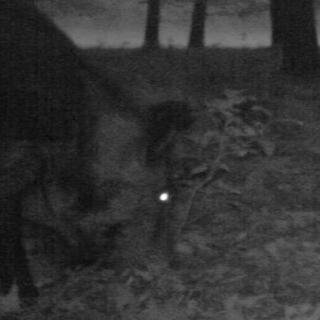Pig: (0, 0, 192, 309)
